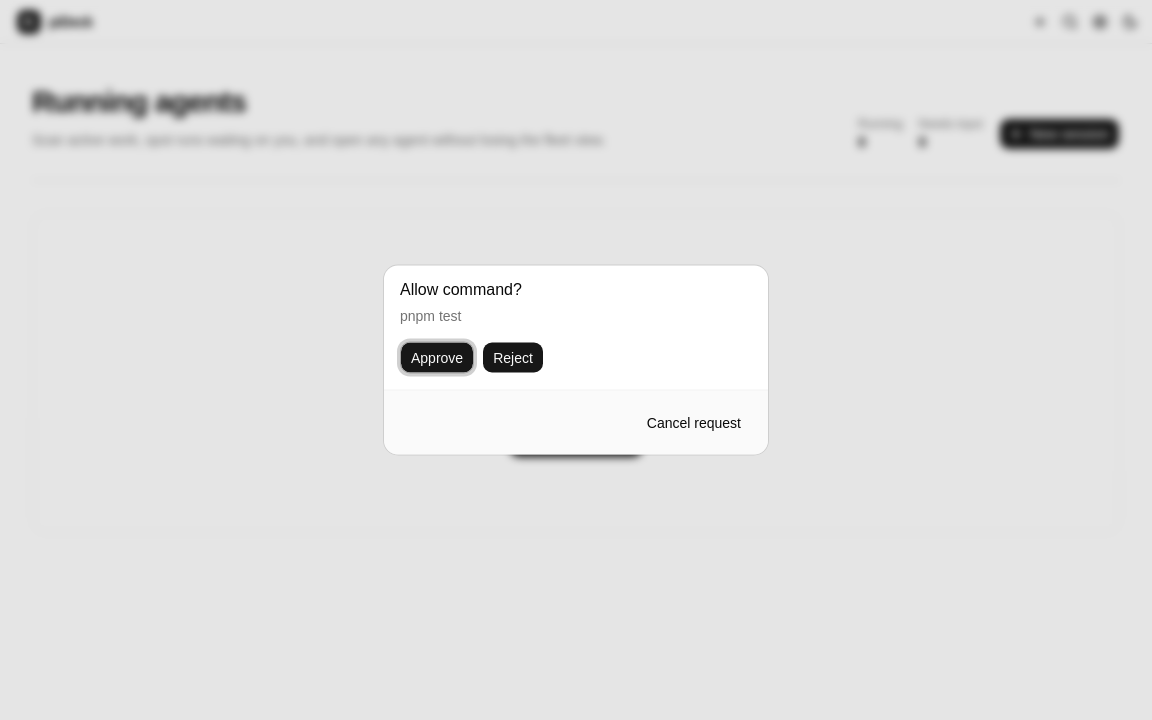
Test: App › surfaces agent requests inline and resolves them without a separate inbox
The image size is (1152, 720).
Expected: the heading "Allow command?" is shown, [400,280,522,298]
Click the button "Approve": (437, 358) [400,342,474,374]
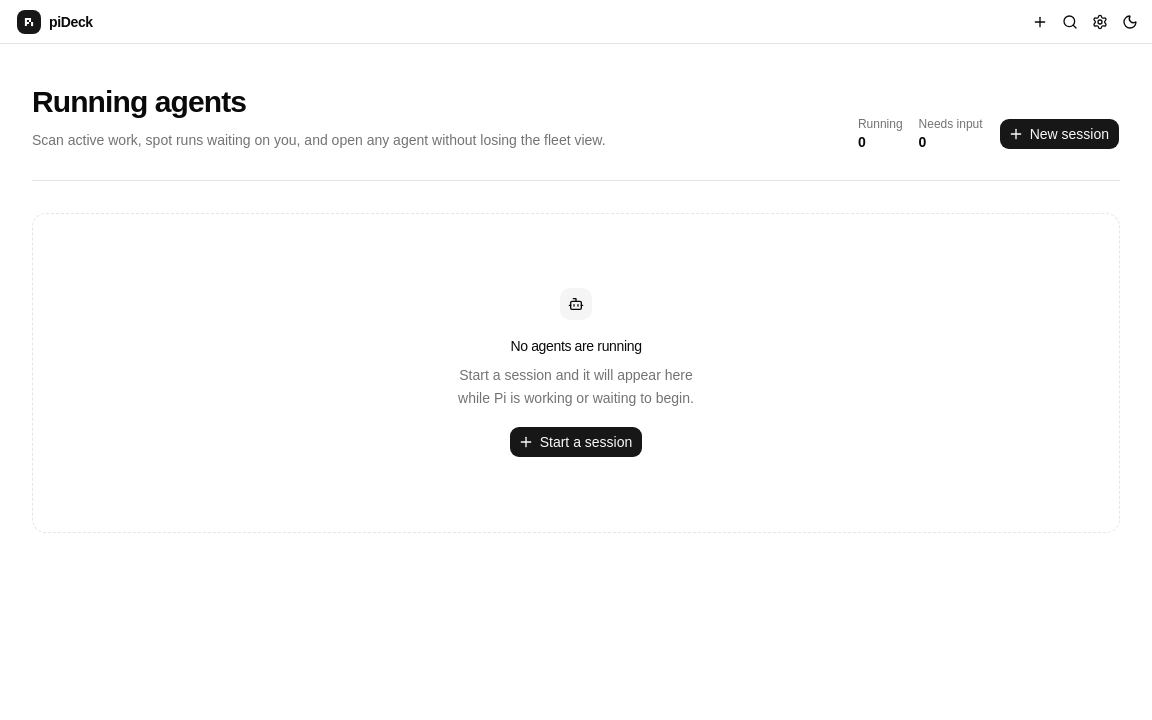
Expected: the heading "Allow command?" is gone
